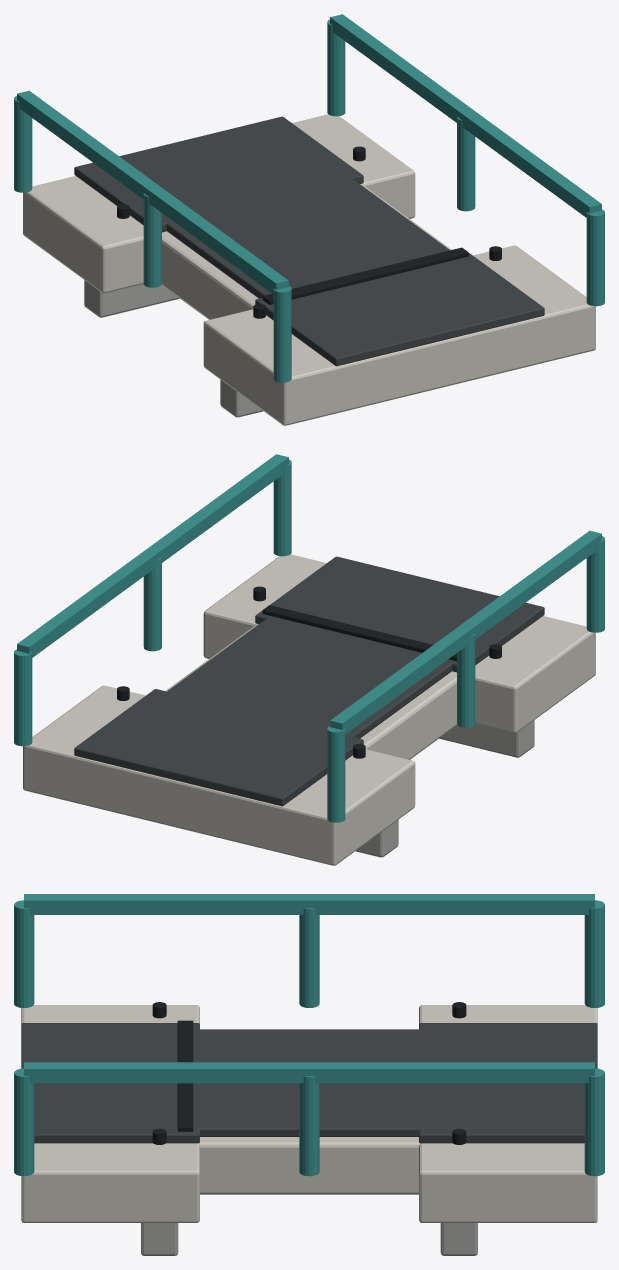
File: BRG_LOCAL_DECK_1x1_STRAIGHT.glb
The picture shows the model from 3 angles, top to bottom: view 1: azimuth 30°, elevation 25°; view 2: azimuth 150°, elevation 25°; view 3: azimuth 270°, elevation 25°; orthographic projection. The views are drawn at different scales.
Visible parts, largest first — view 1: BRG_LOCAL_DECK_1x1_STRAIGHT_Visual; view 2: BRG_LOCAL_DECK_1x1_STRAIGHT_Visual; view 3: BRG_LOCAL_DECK_1x1_STRAIGHT_Visual.
Boxes of the visible parts, x1,y1,x2,y2 form: BRG_LOCAL_DECK_1x1_STRAIGHT_Visual: [14, 14, 604, 425]; BRG_LOCAL_DECK_1x1_STRAIGHT_Visual: [14, 454, 604, 865]; BRG_LOCAL_DECK_1x1_STRAIGHT_Visual: [14, 894, 604, 1255].
Size of what is drawn, in the model's own units: 1.45 by 0.7475 by 2.05.
